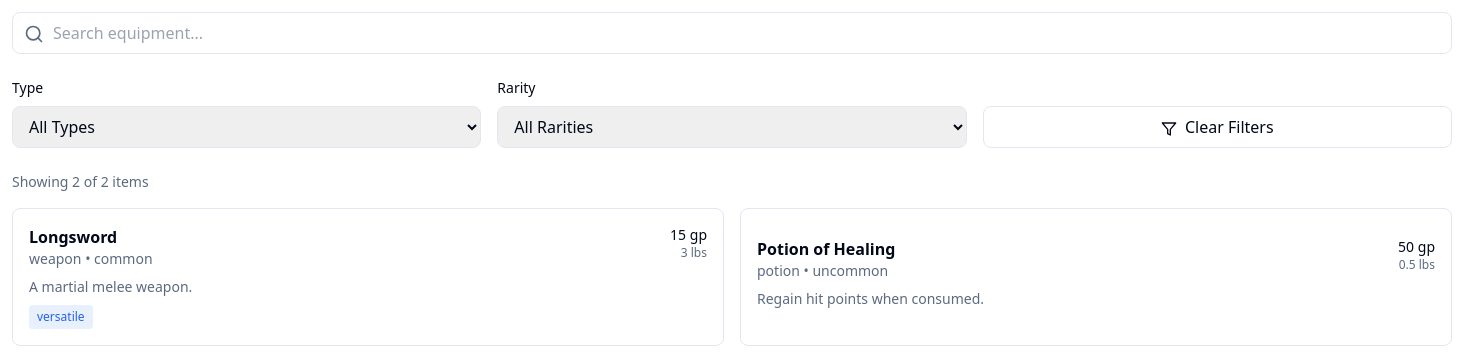
Test: EquipmentBrowser › filters by type and rarity, then clears filters
Select "Weapon" in the dropdown labelled "Type". click: (247,127)
box: [12, 106, 481, 148]
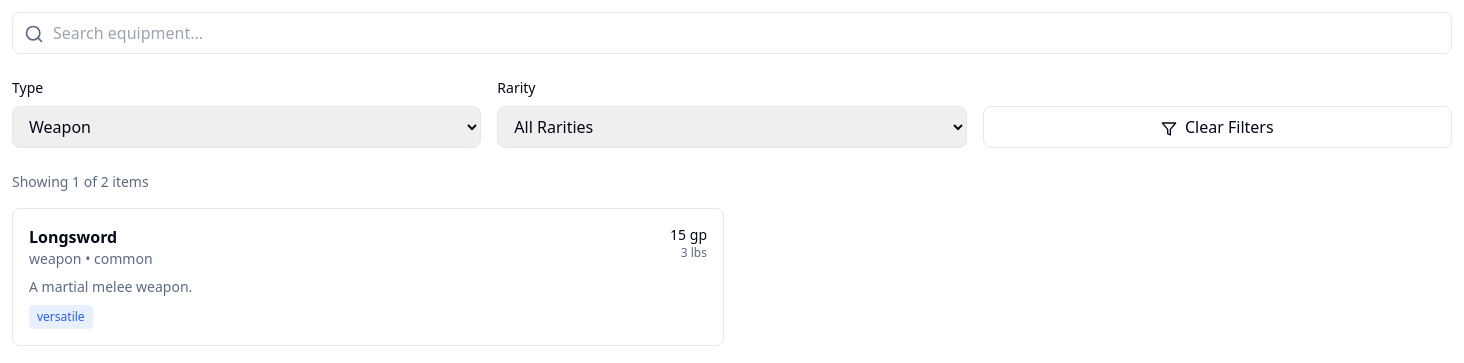
Expected: the heading "Longsword" is shown, [29, 226, 117, 248]
Now the button "Potion of Healing" is gone
Select "Common" in the dropdown labelled "Rarity". click: (732,127)
box: [497, 106, 967, 148]
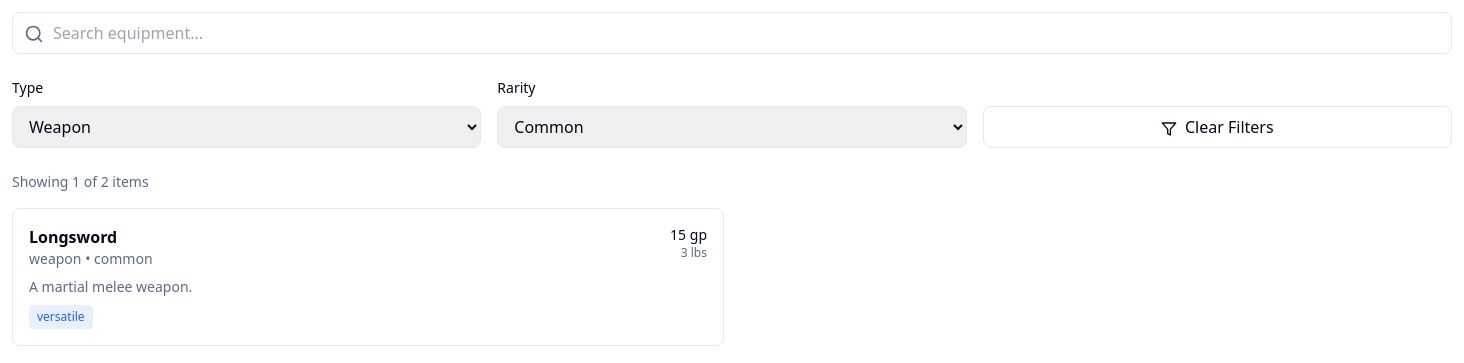
Now the text "Showing 1 of 2 items" is shown, box [12, 172, 149, 191]
Click the button "Clear Filters". click: (1217,127)
box: [983, 106, 1452, 148]
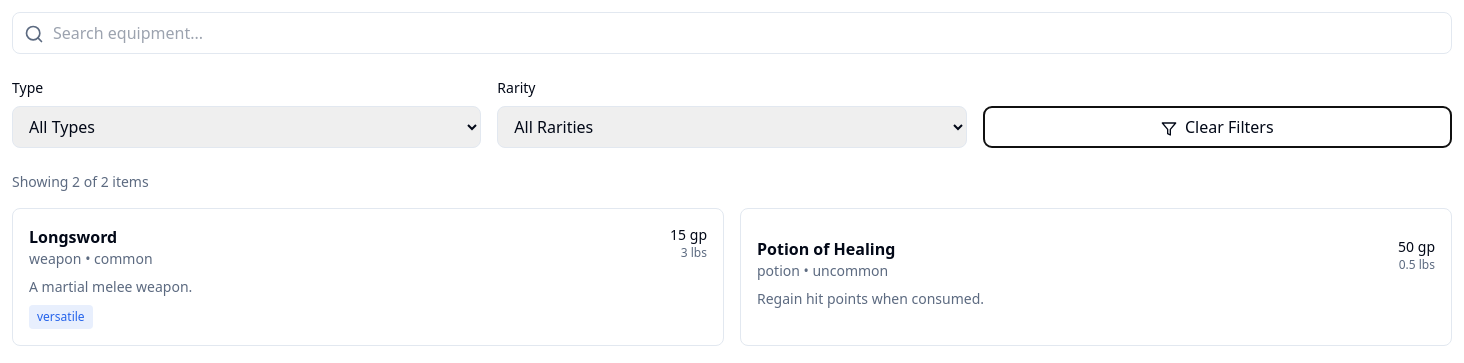
Now the text "Showing 2 of 2 items" is shown, box [12, 172, 149, 191]
